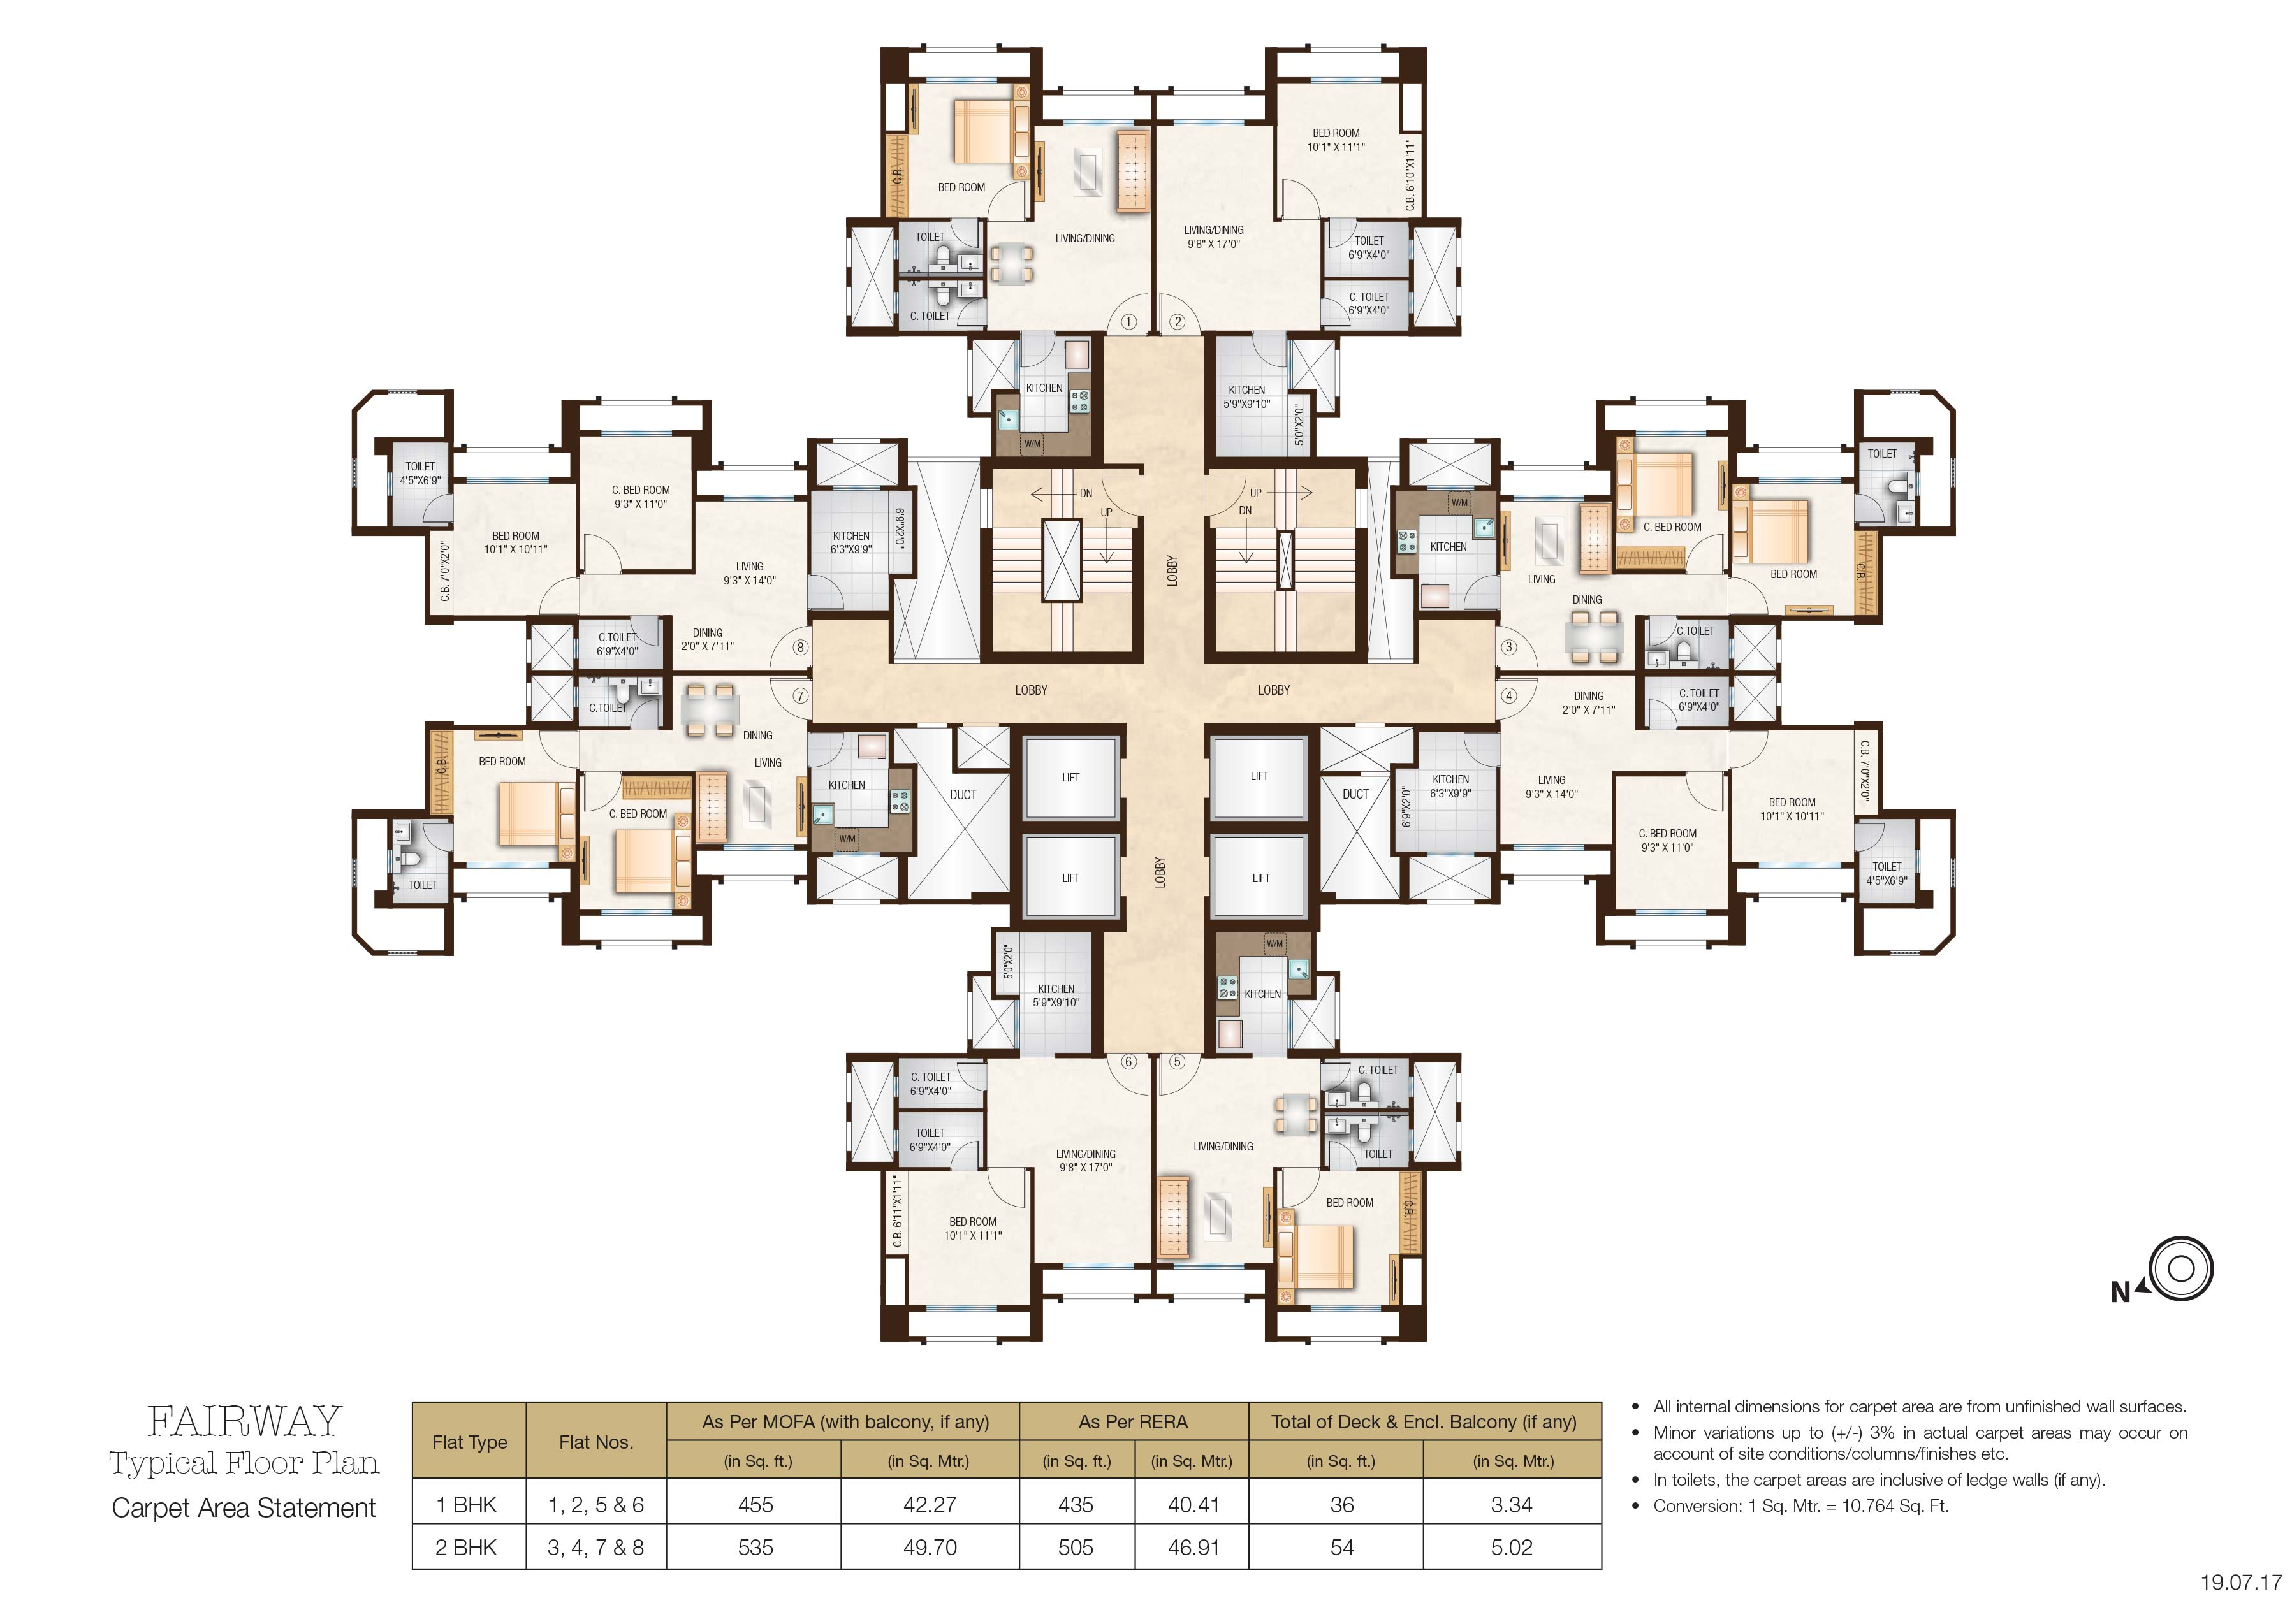window: (599, 427, 675, 439), (721, 492, 796, 504), (1060, 1260, 1135, 1272), (1171, 1260, 1246, 1272), (462, 859, 550, 870), (599, 907, 673, 919), (1308, 1304, 1383, 1315), (925, 1302, 1000, 1313), (722, 842, 796, 852), (1062, 118, 1135, 128), (1172, 118, 1246, 128), (1756, 861, 1844, 870), (464, 476, 550, 485), (1758, 476, 1844, 485), (1512, 494, 1587, 503), (1633, 907, 1708, 916), (925, 76, 998, 84), (1309, 76, 1383, 84), (1635, 429, 1708, 438), (1512, 844, 1585, 852), (831, 483, 882, 494), (1012, 339, 1021, 392), (1287, 339, 1295, 392), (831, 851, 882, 859), (1425, 483, 1476, 492), (1285, 998, 1294, 1049), (1425, 851, 1476, 858), (1012, 998, 1019, 1049), (385, 847, 395, 875), (891, 1074, 900, 1100), (891, 1128, 900, 1155), (571, 636, 580, 661), (1408, 1076, 1417, 1098), (1406, 1128, 1415, 1151), (1408, 239, 1417, 260), (1408, 292, 1417, 313), (573, 684, 580, 708)
